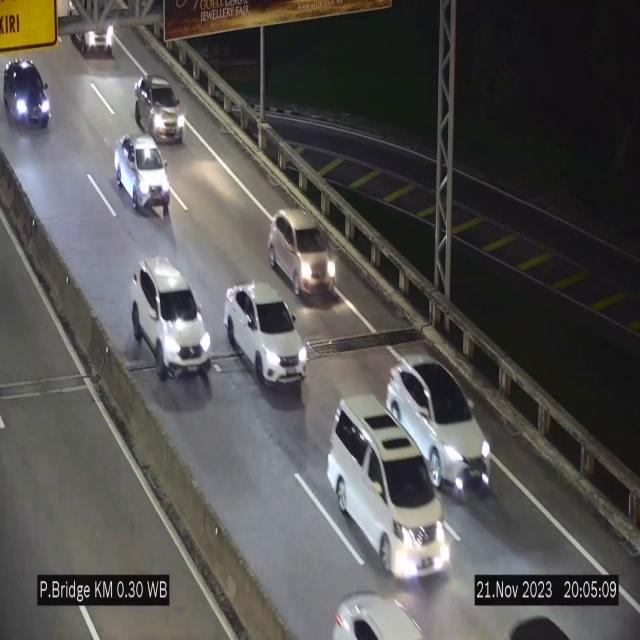Car: (327, 397, 449, 583), (386, 355, 490, 493), (132, 258, 211, 376), (224, 283, 307, 386), (269, 209, 334, 300), (114, 136, 170, 214), (135, 75, 184, 144), (4, 59, 50, 130)
